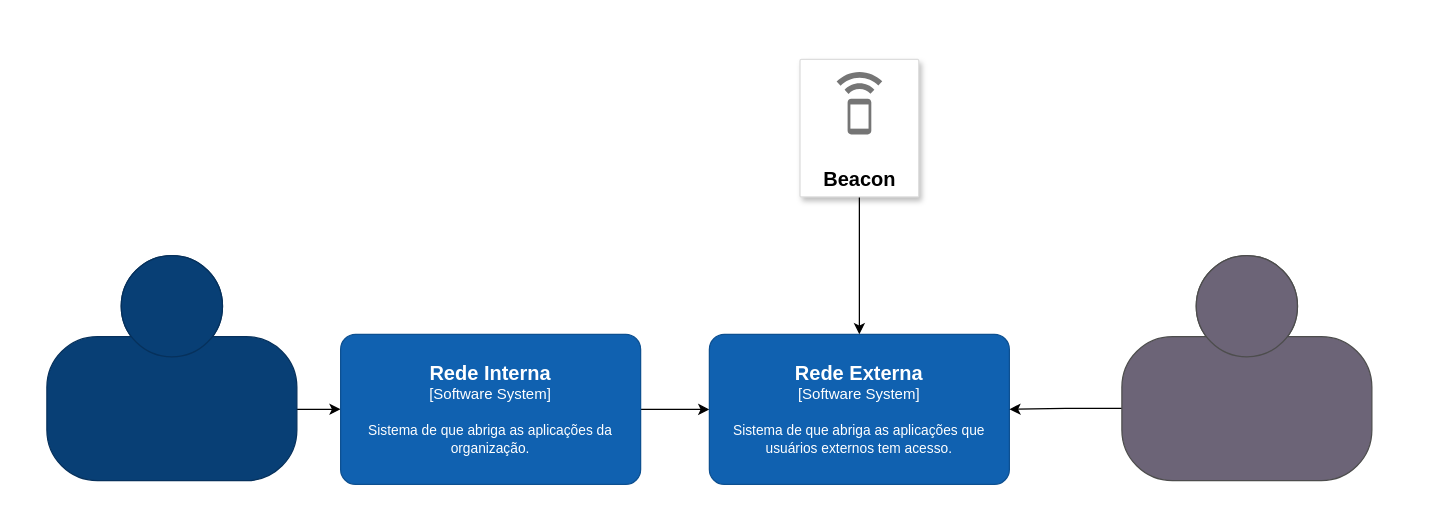
Image size: 1443x530. Some labels were removed from this diagram. The centre of each missing label's shape, as x and y in pixels:
Admin [Person] Pessoa responsável pelo cadastro de beacons no sistema: [171,367]
Usuário [Person] Pessoa que tem o aplicativo de cupons instalado no seu celular.: [1246,367]
